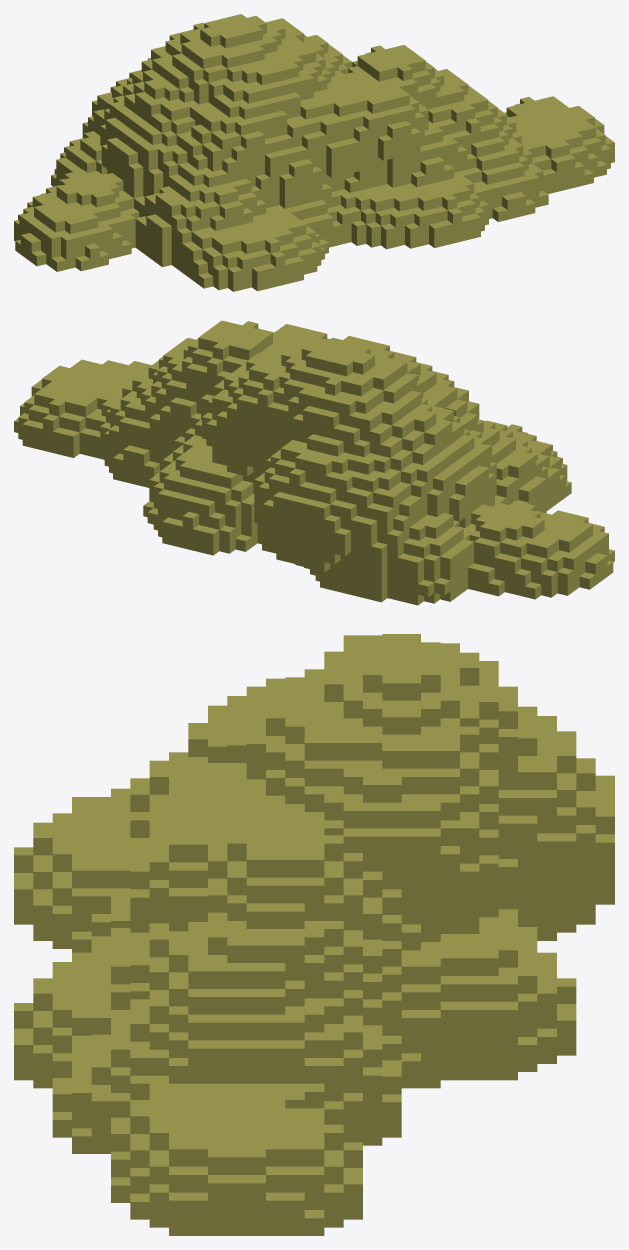
File: forest1.1-9.obj
3 renders of one model, top to bottom at view 1: azimuth 30°, elevation 25°; view 2: azimuth 150°, elevation 25°; view 3: azimuth 270°, elevation 25°, orthographic. The views are drawn at different scales.
Size of the model in its own units: 5.8 by 1.7 by 3.1.
Materials: 1 (1 with a texture image).
